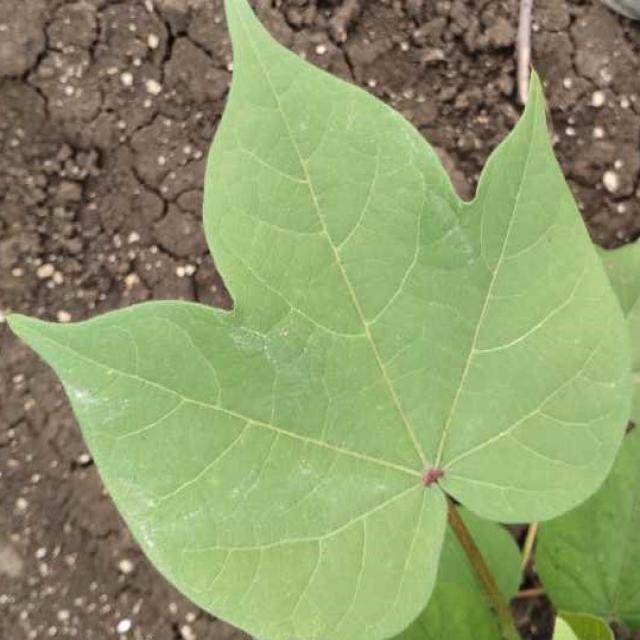Healthy Leaf: (63, 16, 640, 579)
